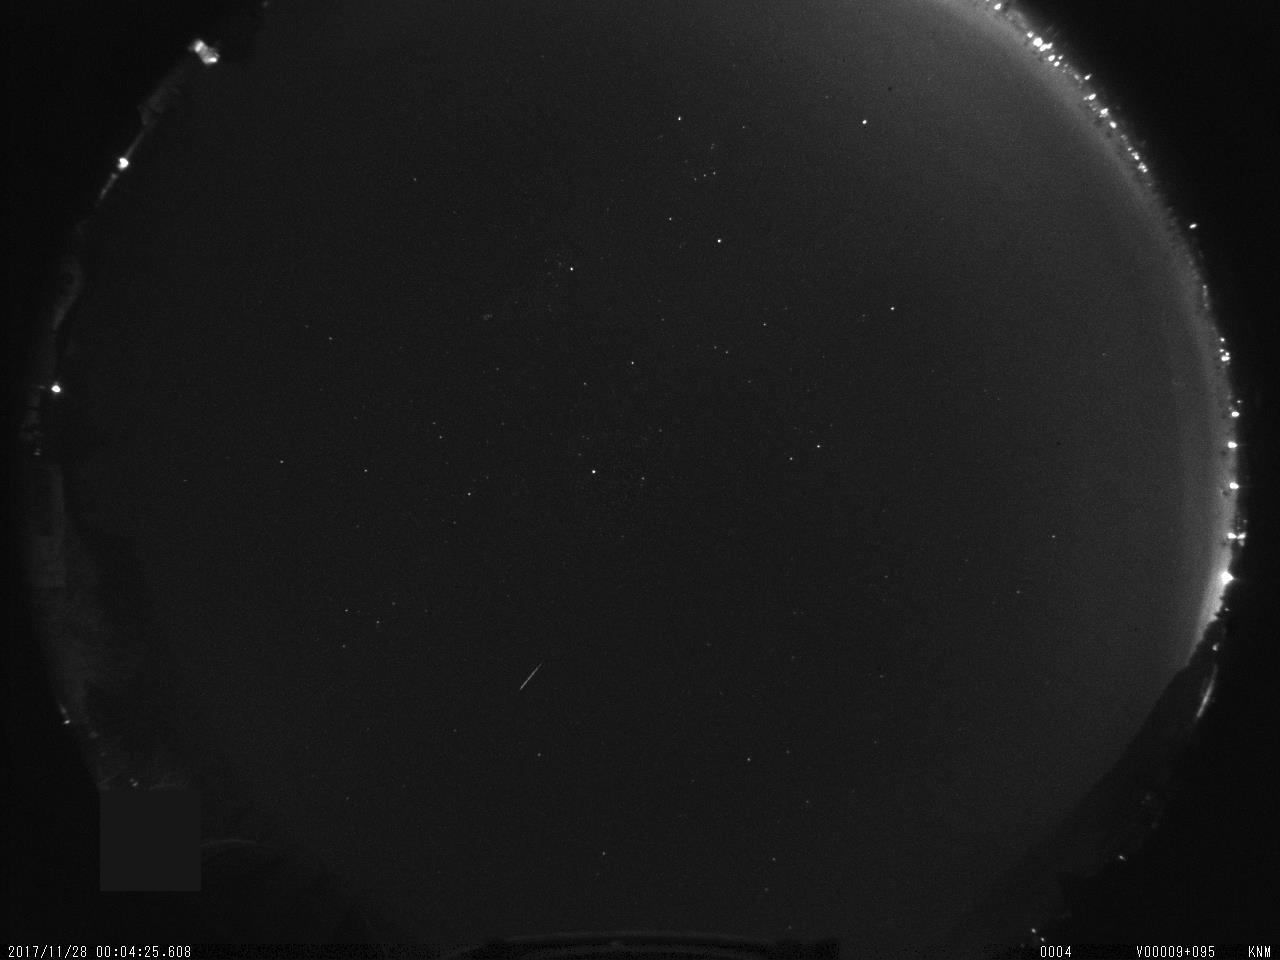Meteor: (512, 656, 545, 698)
